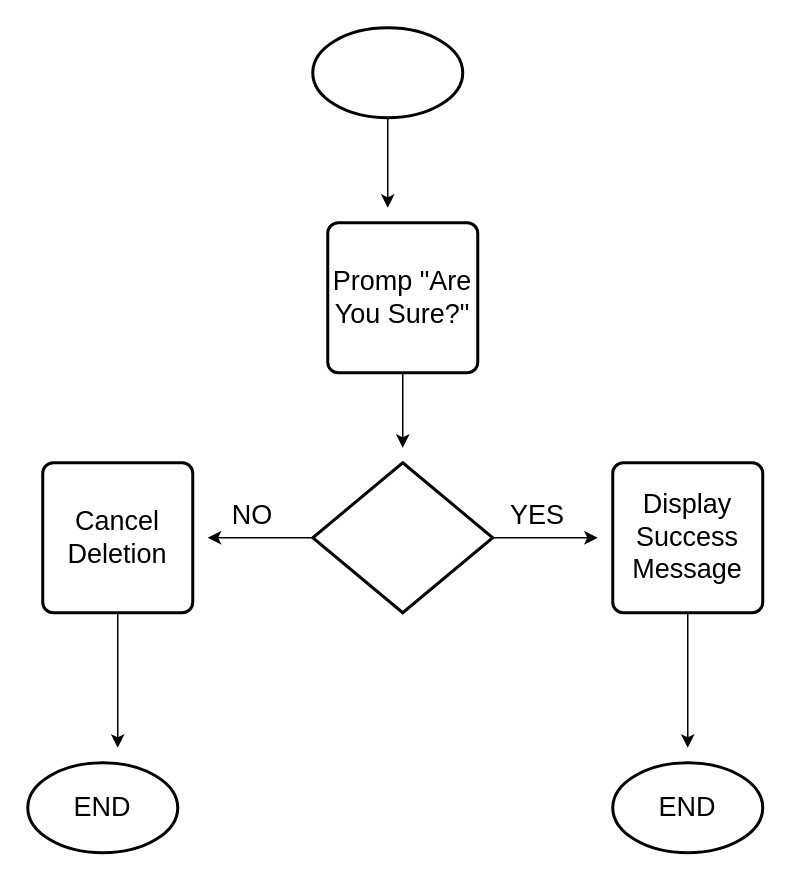
Some shapes in this 789 by 879 pixel diagram are drawn without their labels. Each missing label, with the centre of its shape:
Confirm Deletion?: the point at 402,537
START: the point at 387,72
